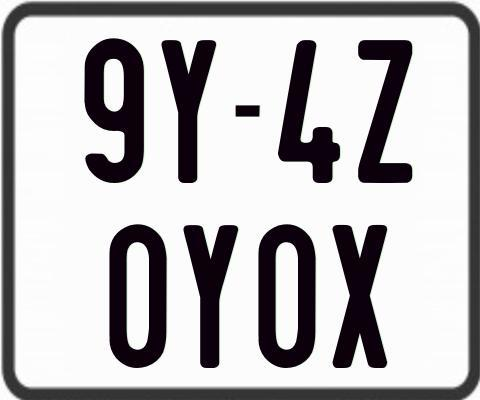0: (106, 222, 165, 370), (257, 223, 316, 367)
4: (275, 40, 339, 187)
9: (82, 38, 147, 187)
X: (332, 222, 388, 368)
Y: (182, 225, 237, 371), (162, 37, 216, 184)
Z: (356, 37, 414, 181)
